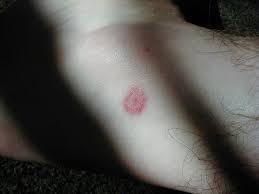Spider: (119, 83, 151, 118)
